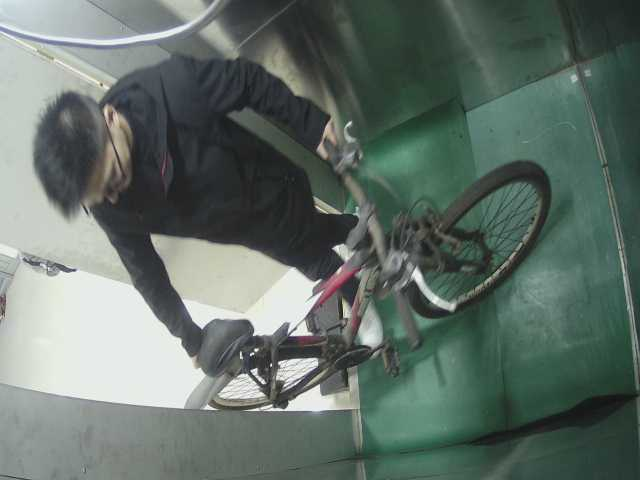bicycle: (169, 116, 559, 419)
person: (25, 49, 399, 324)
